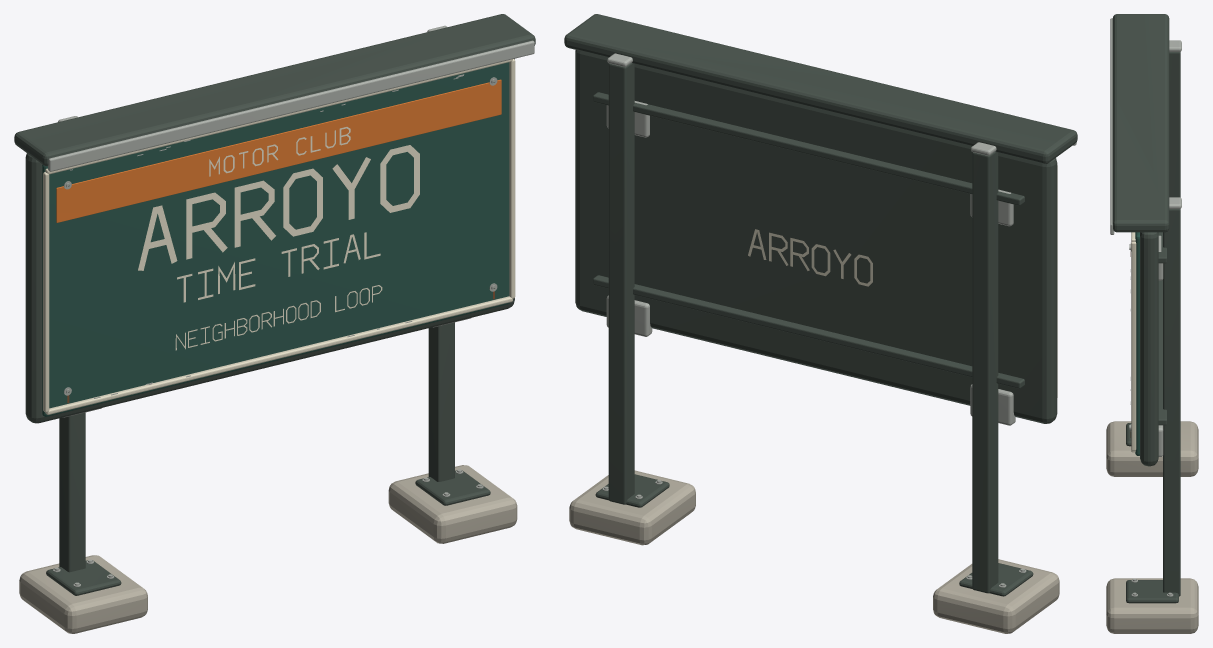
Rendered from activity-board.glb.
The picture shows the model from 3 angles, left to right: view 1: azimuth 30°, elevation 25°; view 2: azimuth 150°, elevation 25°; view 3: azimuth 270°, elevation 25°; orthographic projection. The views are drawn at different scales.
Visible parts, largest first — view 1: activity-green, activity-steel, activity-cream, activity-orange, concrete, activity-zinc; view 2: activity-steel, concrete, activity-zinc, activity-cream; view 3: activity-steel, concrete, activity-zinc, activity-cream, activity-green.
Part boxes in pixels (x1,y1,x2,y2): activity-green: [42, 62, 510, 416]; activity-steel: [14, 14, 535, 595]; activity-cream: [43, 59, 515, 414]; activity-orange: [56, 79, 501, 222]; concrete: [19, 465, 517, 633]; activity-zinc: [48, 25, 534, 586]; activity-steel: [564, 14, 1077, 596]; concrete: [569, 470, 1059, 633]; activity-zinc: [602, 53, 1076, 587]; activity-cream: [748, 165, 1057, 397]; activity-steel: [1112, 14, 1180, 603]; concrete: [1106, 421, 1198, 633]; activity-zinc: [1110, 18, 1181, 596]; activity-cream: [1131, 232, 1136, 452]; activity-green: [1135, 232, 1139, 455].
Bounding box in the file's own units: 2.8 × 2.64 × 0.52.
